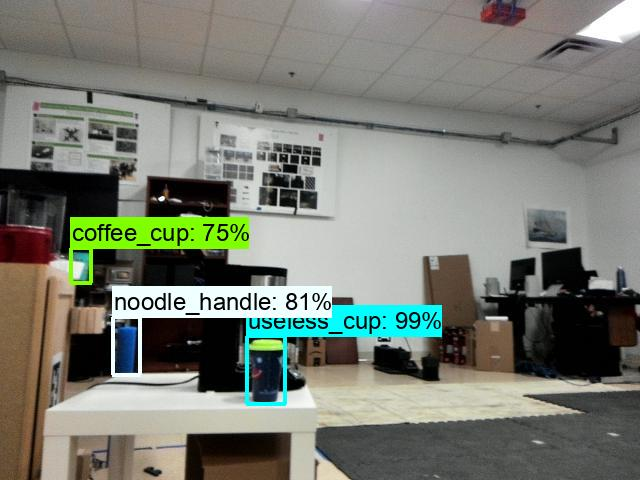coffee_cup: (70, 248, 89, 282)
noodle_handle: (113, 318, 142, 376)
useless_cup: (247, 337, 285, 407)
